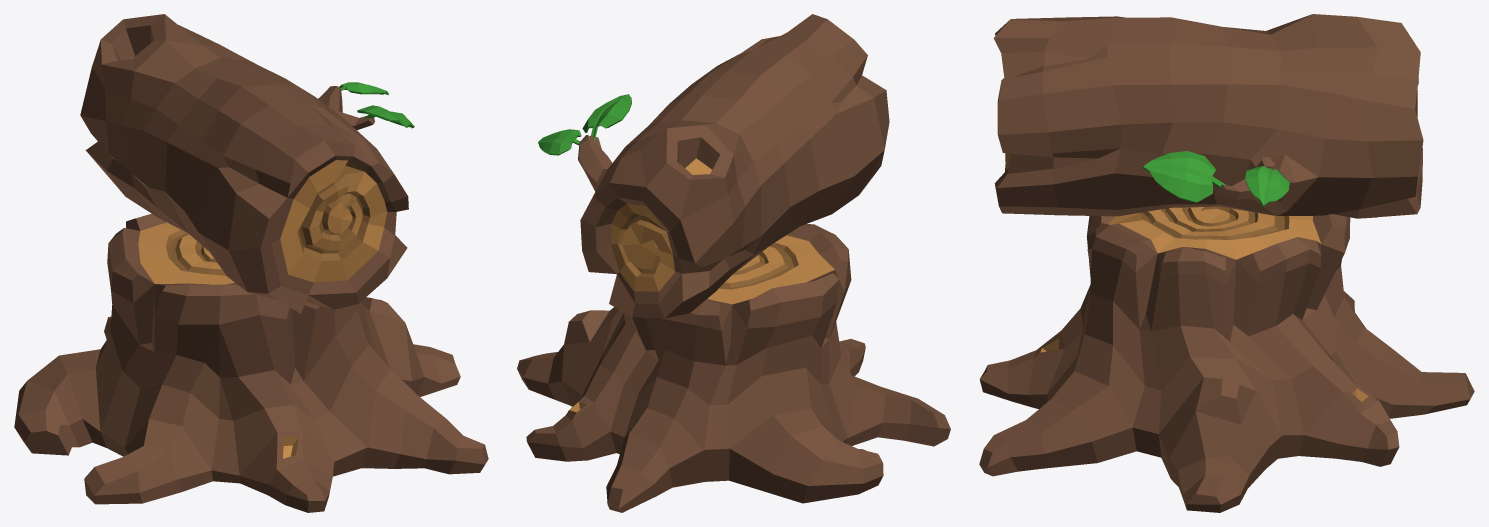
Rendered from 3D_Model_WoodAndStump_LP_v1.fbx.
3 renders of one model, left to right at view 1: azimuth 30°, elevation 25°; view 2: azimuth 150°, elevation 25°; view 3: azimuth 270°, elevation 25°, orthographic. The views are drawn at different scales.
Parts seen in each view (by area): view 1: Wood_LP; view 2: Wood_LP; view 3: Wood_LP.
Boxes of the visible parts, x1=… form: Wood_LP: x1=14, y1=14, x2=488, y2=512; Wood_LP: x1=517, y1=14, x2=950, y2=512; Wood_LP: x1=979, y1=14, x2=1474, y2=512.
Size of the model in its own units: 433 by 370 by 433.
